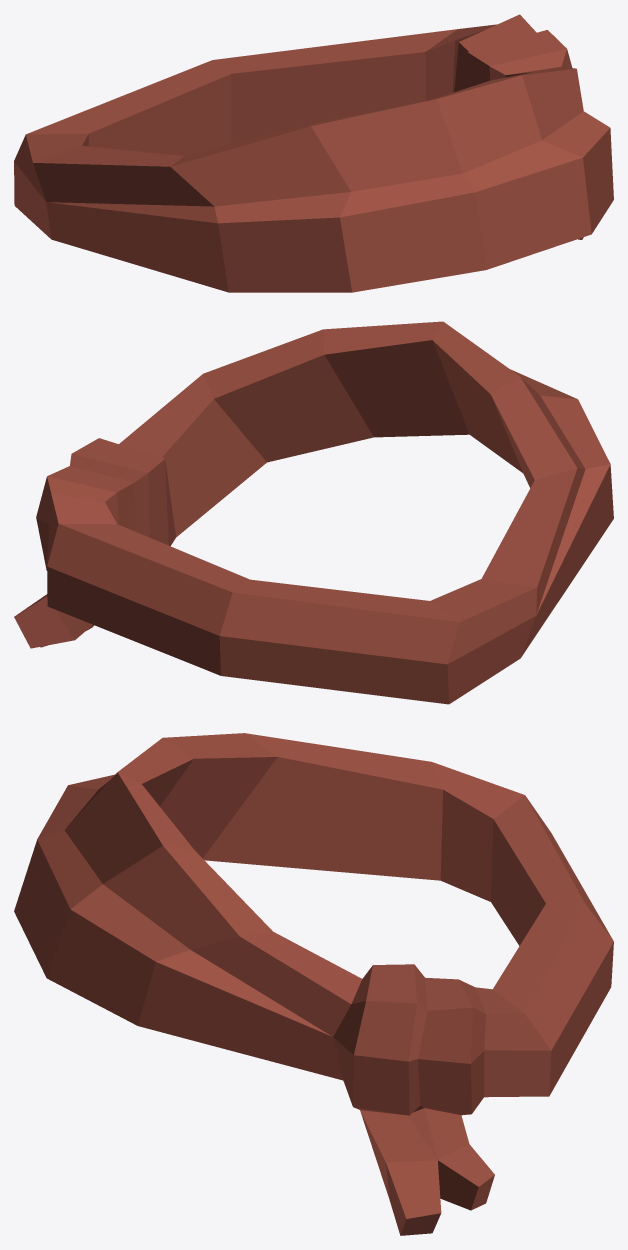
The model's file is SM_Chr_Attach_Bandana_01.fbx.
The picture shows the model from 3 angles, top to bottom: view 1: azimuth 30°, elevation 25°; view 2: azimuth 150°, elevation 25°; view 3: azimuth 270°, elevation 25°; orthographic projection. The views are drawn at different scales.
Parts seen in each view (by area): view 1: SM_Chr_Attach_Bandana_01; view 2: SM_Chr_Attach_Bandana_01; view 3: SM_Chr_Attach_Bandana_01.
Part boxes in pixels (x1=…): SM_Chr_Attach_Bandana_01: x1=14, y1=14, x2=613, y2=292; SM_Chr_Attach_Bandana_01: x1=14, y1=321, x2=613, y2=704; SM_Chr_Attach_Bandana_01: x1=14, y1=733, x2=613, y2=1235.
Bounding box in the file's own units: 33.6 × 17.84 × 30.2.
